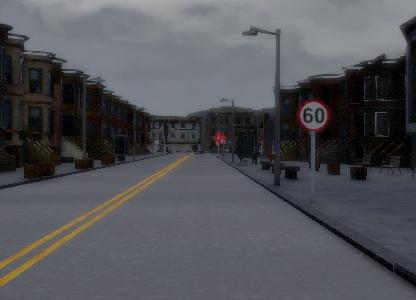Speed_60: (297, 98, 333, 136)
